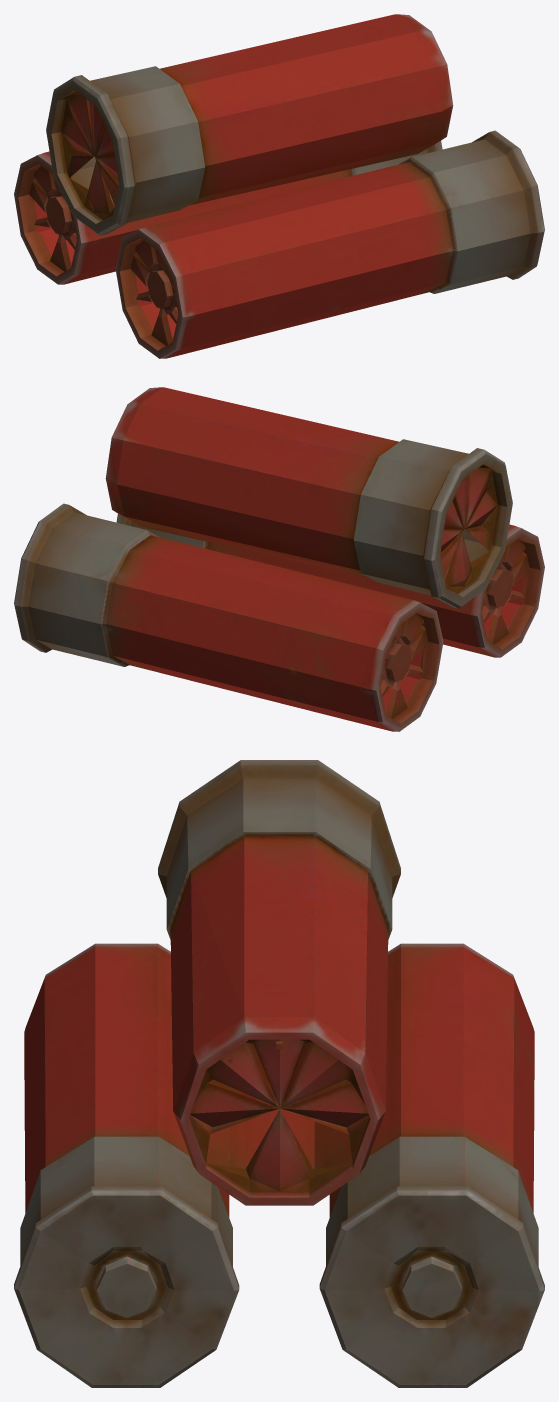
The model's file is shotgun_bullet.glb.
The picture shows the model from 3 angles, top to bottom: view 1: azimuth 30°, elevation 25°; view 2: azimuth 150°, elevation 25°; view 3: azimuth 270°, elevation 25°; orthographic projection. The views are drawn at different scales.
Visible parts, largest first — view 1: tripo_node_224c6aee-452e-41ec-919e-b6984af46186; view 2: tripo_node_224c6aee-452e-41ec-919e-b6984af46186; view 3: tripo_node_224c6aee-452e-41ec-919e-b6984af46186.
Part boxes in pixels (x1,y1,x2,y2): tripo_node_224c6aee-452e-41ec-919e-b6984af46186: (14,14,544,358); tripo_node_224c6aee-452e-41ec-919e-b6984af46186: (14,387,544,731); tripo_node_224c6aee-452e-41ec-919e-b6984af46186: (14,760,544,1387).
Bounding box in the file's own units: 0.998 × 0.6047 × 0.816.
Materials: 1 (1 with a texture image).
